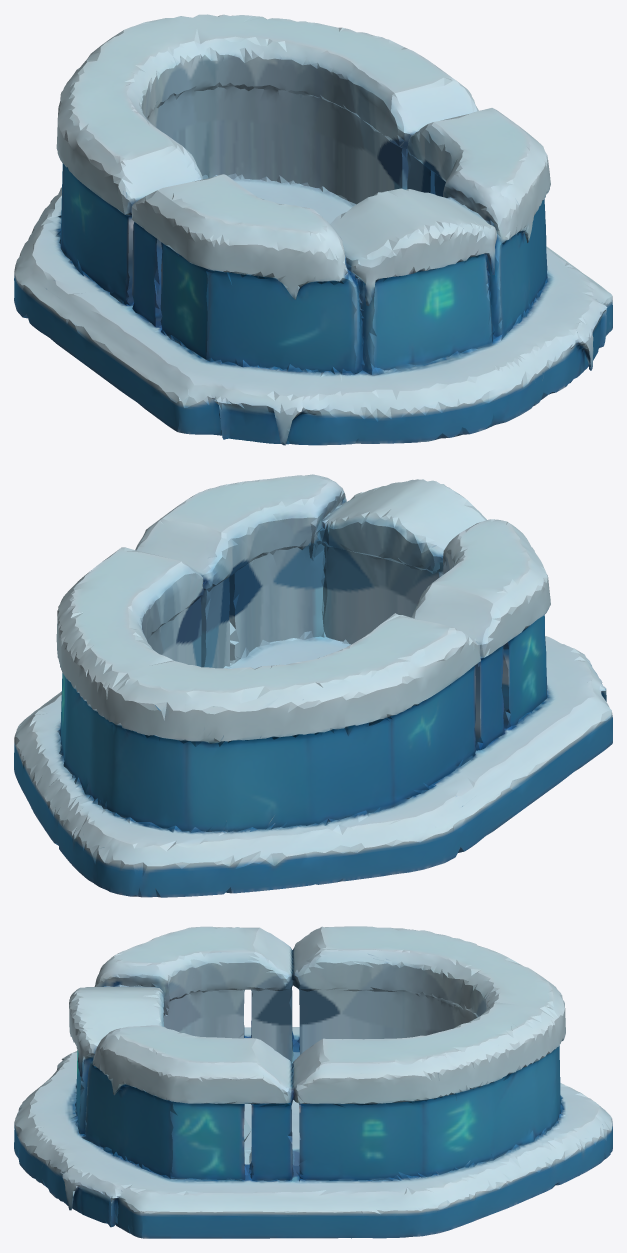
Rendered from Tundra_FrozenShrine.glb.
The picture shows the model from 3 angles, top to bottom: view 1: azimuth 30°, elevation 25°; view 2: azimuth 150°, elevation 25°; view 3: azimuth 270°, elevation 25°; orthographic projection. The views are drawn at different scales.
Parts seen in each view (by area): view 1: Tundra_FrozenShrine; view 2: Tundra_FrozenShrine; view 3: Tundra_FrozenShrine.
Boxes of the visible parts, bbox=[...] form: Tundra_FrozenShrine: bbox=[14, 14, 612, 445]; Tundra_FrozenShrine: bbox=[14, 474, 612, 897]; Tundra_FrozenShrine: bbox=[14, 926, 612, 1238].
Size of the model in its own units: 1.7 by 0.68 by 2.38.
1 material, 1 textured.
